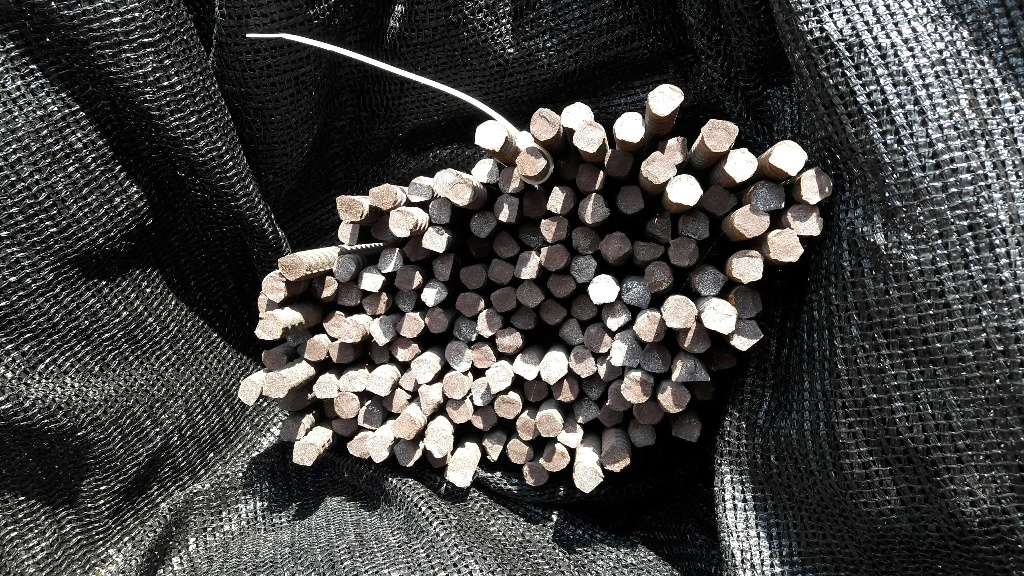dipstick: (769, 139, 807, 176), (699, 117, 738, 152), (647, 82, 685, 116), (661, 295, 697, 330), (701, 298, 737, 333), (788, 202, 823, 237), (733, 205, 770, 238), (666, 174, 703, 206), (700, 185, 738, 216), (725, 147, 758, 182), (768, 229, 803, 262), (799, 167, 832, 202), (752, 180, 788, 212), (673, 353, 710, 384), (730, 250, 764, 283), (609, 334, 642, 368), (729, 319, 764, 351), (730, 286, 763, 319), (614, 111, 647, 143), (643, 151, 677, 182), (529, 108, 560, 141), (635, 311, 666, 344), (668, 237, 701, 267), (601, 231, 631, 264), (587, 275, 620, 305), (601, 301, 634, 331), (578, 193, 609, 224), (659, 383, 691, 413), (252, 312, 285, 341), (693, 268, 728, 295), (677, 325, 712, 351), (679, 210, 710, 239), (640, 345, 671, 374), (583, 323, 612, 354), (643, 262, 672, 292), (620, 374, 650, 403), (515, 279, 544, 308), (573, 123, 602, 152), (572, 465, 602, 493), (604, 149, 634, 177), (616, 185, 646, 213), (423, 429, 454, 456), (453, 292, 484, 319), (621, 281, 652, 308), (657, 137, 689, 163), (646, 211, 672, 243), (443, 342, 471, 371), (388, 412, 418, 439), (487, 362, 514, 392), (516, 148, 546, 175), (569, 348, 596, 378), (335, 196, 366, 222), (536, 216, 567, 242), (476, 121, 504, 149), (388, 209, 416, 237), (420, 279, 447, 308), (417, 385, 444, 414), (505, 438, 534, 465), (546, 187, 575, 214), (538, 299, 567, 326), (673, 415, 700, 444), (562, 101, 592, 127), (394, 441, 422, 468), (603, 445, 630, 473), (488, 285, 516, 312), (576, 163, 604, 190), (569, 255, 596, 283), (538, 245, 567, 271), (546, 272, 576, 297), (483, 432, 507, 463), (632, 401, 664, 424), (452, 316, 480, 342), (494, 327, 522, 353), (467, 211, 495, 237), (493, 195, 518, 224), (571, 227, 600, 252), (499, 165, 523, 195), (428, 199, 454, 226), (260, 276, 287, 302), (396, 312, 423, 338), (313, 374, 340, 400), (446, 462, 473, 488), (470, 343, 496, 370), (488, 258, 514, 285), (277, 256, 305, 281), (262, 371, 287, 399), (445, 398, 473, 423), (469, 378, 494, 406), (517, 222, 545, 247), (422, 225, 446, 254), (298, 337, 327, 361), (413, 356, 437, 385), (473, 405, 497, 434), (459, 265, 488, 289), (633, 239, 664, 261), (368, 317, 394, 343), (443, 373, 469, 399), (494, 395, 520, 421), (572, 399, 598, 425), (552, 377, 578, 403), (514, 354, 540, 380), (558, 319, 584, 345), (340, 369, 367, 394), (380, 388, 407, 413), (521, 191, 548, 216), (516, 251, 541, 278), (470, 159, 498, 183), (543, 447, 571, 471), (477, 311, 501, 339), (491, 233, 519, 257), (708, 347, 736, 371), (370, 184, 395, 210), (407, 177, 432, 203), (378, 248, 404, 273), (334, 392, 359, 418), (524, 461, 549, 487), (365, 373, 392, 397), (449, 179, 472, 207), (391, 338, 419, 361), (607, 384, 630, 412), (367, 433, 389, 462), (630, 426, 659, 448), (433, 172, 458, 197), (540, 359, 565, 384), (346, 433, 370, 459), (553, 153, 579, 177), (571, 295, 597, 319), (431, 253, 454, 280), (425, 307, 448, 334), (516, 414, 539, 441), (538, 412, 561, 439), (521, 379, 548, 402), (308, 277, 336, 299), (394, 268, 422, 290), (291, 441, 315, 466), (328, 418, 358, 438), (581, 376, 605, 401), (332, 256, 355, 282), (361, 293, 387, 316), (328, 341, 354, 364), (336, 283, 359, 308), (338, 319, 361, 344), (279, 419, 304, 442), (510, 306, 535, 329), (370, 216, 392, 242), (358, 270, 384, 292), (359, 403, 381, 429), (464, 235, 490, 257), (424, 449, 452, 469), (597, 356, 621, 379), (402, 238, 427, 260), (322, 311, 342, 338), (368, 339, 390, 363), (558, 426, 582, 448), (336, 220, 359, 242), (599, 406, 622, 428), (694, 381, 717, 403), (261, 349, 286, 369), (238, 380, 258, 405), (277, 394, 308, 410), (393, 290, 415, 312), (401, 367, 417, 394), (319, 398, 337, 419), (254, 294, 270, 313)
